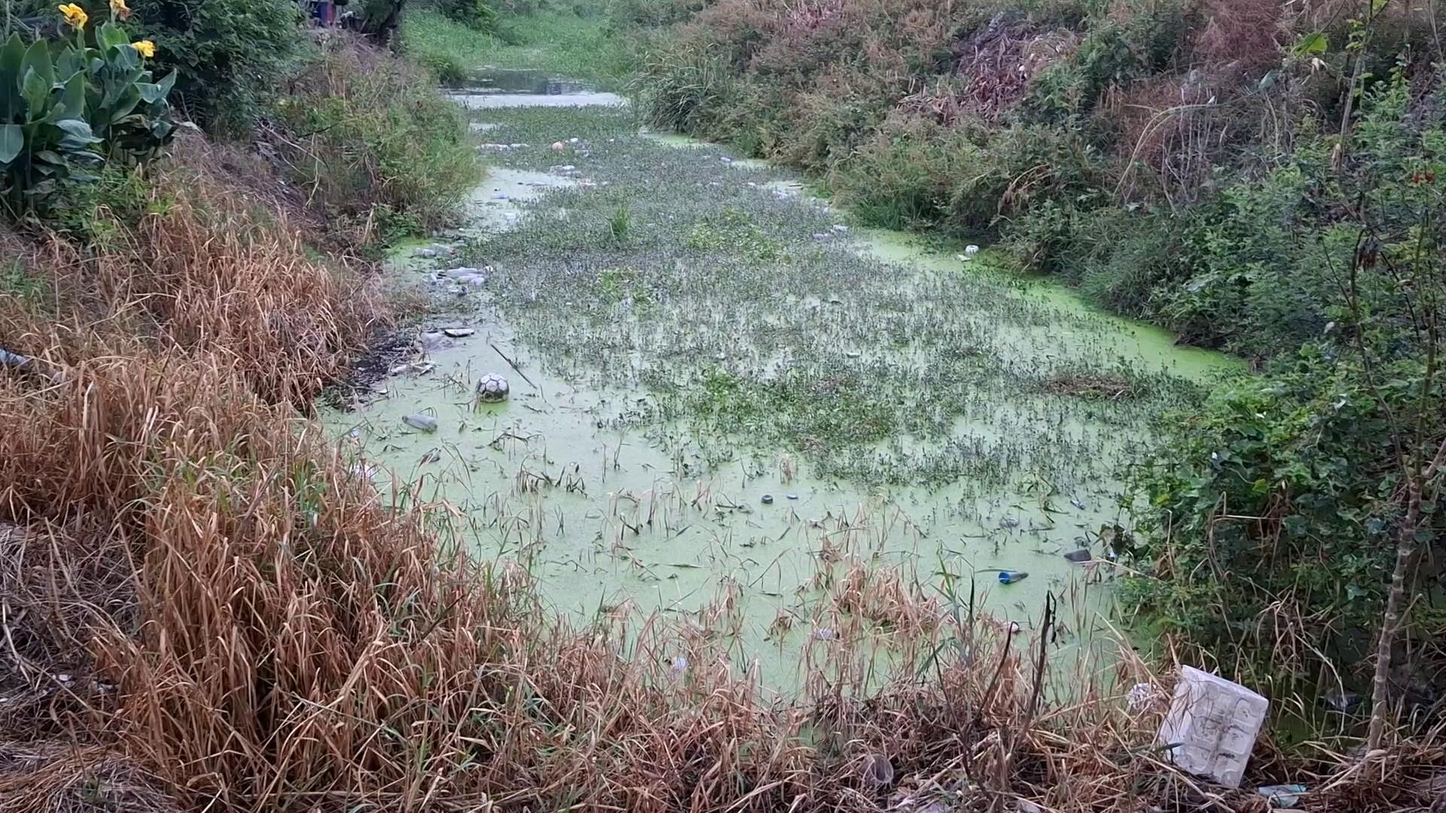ignore: (649, 263, 1048, 478), (485, 215, 794, 357), (486, 94, 716, 209)
trash: (433, 266, 498, 303), (403, 234, 462, 271), (398, 408, 449, 437), (804, 624, 853, 652), (472, 370, 513, 403), (1064, 542, 1105, 571), (437, 320, 482, 346), (996, 563, 1036, 588), (754, 485, 798, 507), (813, 218, 853, 240), (951, 244, 992, 265)
